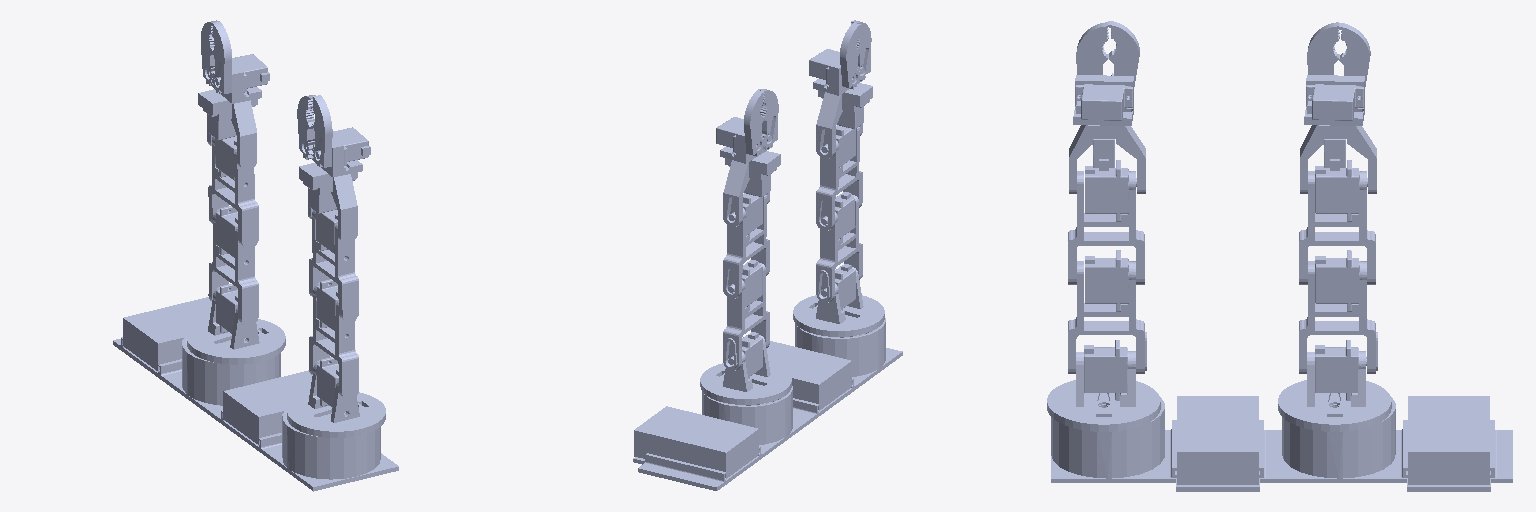
robot.urdf — double_arm:
<robot
  name="double_arm">
  <link
    name="base_link">
    <inertial>
      <origin
        xyz="0.00111660721361151 0.00544426335589322 0.0116258907717766"
        rpy="0 0 0" />
      <mass
        value="0.25833759772703" />
      <inertia
        ixx="0"
        ixy="0"
        ixz="0"
        iyy="0"
        iyz="0"
        izz="0" />
    </inertial>
    <visual>
      <origin
        xyz="0 0 0"
        rpy="0 0 0" />
      <geometry>
        <mesh
          filename="package://double_arm_description/meshes/base_link.STL" />
      </geometry>
      <material
        name="">
        <color
          rgba="0.792156862745098 0.819607843137255 0.933333333333333 1" />
      </material>
    </visual>
    <collision>
      <origin
        xyz="0 0 0"
        rpy="0 0 0" />
      <geometry>
        <mesh
          filename="package://double_arm_description/meshes/base_link.STL" />
      </geometry>
    </collision>
  </link>
  <link
    name="link1">
    <inertial>
      <origin
        xyz="-0.012003663014586 -0.000313443624338133 -0.000524217952789396"
        rpy="0 0 0" />
      <mass
        value="0.0248645274949152" />
      <inertia
        ixx="3.58655000074934E-08"
        ixy="-2.43028642751642E-07"
        ixz="-7.56141041694622E-08"
        iyy="1.80936959619812E-06"
        iyz="-1.01740400691768E-08"
        izz="1.8389041475824E-06" />
    </inertial>
    <visual>
      <origin
        xyz="0 0 0"
        rpy="0 0 0" />
      <geometry>
        <mesh
          filename="package://double_arm_description/meshes/link1.STL" />
      </geometry>
      <material
        name="">
        <color
          rgba="0.792156862745098 0.819607843137255 0.933333333333333 1" />
      </material>
    </visual>
    <collision>
      <origin
        xyz="0 0 0"
        rpy="0 0 0" />
      <geometry>
        <mesh
          filename="package://double_arm_description/meshes/link1.STL" />
      </geometry>
    </collision>
  </link>
  <joint
    name="joint1"
    type="continuous">
    <origin
      xyz="-0.000956158303297705 0.0288844292531031 0.05525"
      rpy="0 -1.5707963267949 0" />
    <parent
      link="base_link" />
    <child
      link="link1" />
    <axis
      xyz="1 0 0" />
  </joint>
  <link
    name="link2">
    <inertial>
      <origin
        xyz="6.69280502962888E-08 0.0369128472564249 -0.000321778523794974"
        rpy="0 0 0" />
      <mass
        value="0.016700623318245" />
      <inertia
        ixx="2.6833102526962E-06"
        ixy="1.3354949635344E-11"
        ixz="-1.34958738023249E-12"
        iyy="2.71253785938177E-08"
        iyz="2.68421348161181E-07"
        izz="2.65618487423668E-06" />
    </inertial>
    <visual>
      <origin
        xyz="0 0 0"
        rpy="0 0 0" />
      <geometry>
        <mesh
          filename="package://double_arm_description/meshes/link2.STL" />
      </geometry>
      <material
        name="">
        <color
          rgba="0.792156862745098 0.819607843137255 0.933333333333333 1" />
      </material>
    </visual>
    <collision>
      <origin
        xyz="0 0 0"
        rpy="0 0 0" />
      <geometry>
        <mesh
          filename="package://double_arm_description/meshes/link2.STL" />
      </geometry>
    </collision>
  </link>
  <joint
    name="joint2"
    type="continuous">
    <origin
      xyz="0.00525 0 0"
      rpy="-1.5708 1.5677 -3.1416" />
    <parent
      link="link1" />
    <child
      link="link2" />
    <axis
      xyz="0 0 1" />
    <limit
      lower="-1.56"
      upper="1.56"
      effort="1"
      velocity="1" />
  </joint>
  <link
    name="link3">
    <inertial>
      <origin
        xyz="1.95214170273239E-07 0.0370134499027811 -0.000149459182593875"
        rpy="0 0 0" />
      <mass
        value="0.0166651621532697" />
      <inertia
        ixx="2.65585275207442E-06"
        ixy="3.8678175896547E-11"
        ixz="-4.44112838797213E-12"
        iyy="3.45597242049358E-08"
        iyz="3.0098365840559E-07"
        izz="2.6212930290109E-06" />
    </inertial>
    <visual>
      <origin
        xyz="0 0 0"
        rpy="0 0 0" />
      <geometry>
        <mesh
          filename="package://double_arm_description/meshes/link3.STL" />
      </geometry>
      <material
        name="">
        <color
          rgba="0.792156862745098 0.819607843137255 0.933333333333333 1" />
      </material>
    </visual>
    <collision>
      <origin
        xyz="0 0 0"
        rpy="0 0 0" />
      <geometry>
        <mesh
          filename="package://double_arm_description/meshes/link3.STL" />
      </geometry>
    </collision>
  </link>
  <joint
    name="joint3"
    type="continuous">
    <origin
      xyz="0 0.055 0"
      rpy="0 0 0.015332" />
    <parent
      link="link2" />
    <child
      link="link3" />
    <axis
      xyz="0 0 1" />
    <limit
      lower="-1.56"
      upper="1.56"
      effort="1"
      velocity="1" />
  </joint>
  <link
    name="link4">
    <inertial>
      <origin
        xyz="-0.00247942992895436 0.0256210540216426 0.00061305269796022"
        rpy="0 0 0" />
      <mass
        value="0.0165800756588296" />
      <inertia
        ixx="4.88415771365494E-09"
        ixy="8.68313158308363E-10"
        ixz="4.86130490540308E-09"
        iyy="9.72607970301189E-09"
        iyz="-8.45422584738511E-10"
        izz="5.1439361888134E-09" />
    </inertial>
    <visual>
      <origin
        xyz="0 0 0"
        rpy="0 0 0" />
      <geometry>
        <mesh
          filename="package://double_arm_description/meshes/link4.STL" />
      </geometry>
      <material
        name="">
        <color
          rgba="0.792156862745098 0.819607843137255 0.933333333333333 1" />
      </material>
    </visual>
    <collision>
      <origin
        xyz="0 0 0"
        rpy="0 0 0" />
      <geometry>
        <mesh
          filename="package://double_arm_description/meshes/link4.STL" />
      </geometry>
    </collision>
  </link>
  <joint
    name="joint4"
    type="continuous">
    <origin
      xyz="0 0.055 0"
      rpy="0 0 -0.012212" />
    <parent
      link="link3" />
    <child
      link="link4" />
    <axis
      xyz="0 0 1" />
    <limit
      lower="-1.56"
      upper="1.56"
      effort="1"
      velocity="1" />
  </joint>
  <link
    name="link5">
    <inertial>
      <origin
        xyz="-0.00131861479839449 0.0101634361199183 -0.000164069114650445"
        rpy="0 0 0" />
      <mass
        value="0.012625228011279" />
      <inertia
        ixx="9.3661113963943E-08"
        ixy="1.09508224271156E-07"
        ixz="-1.85966030941123E-08"
        iyy="1.34354341233773E-07"
        iyz="1.54596253736411E-08"
        izz="2.22764771626308E-07" />
    </inertial>
    <visual>
      <origin
        xyz="0 0 0"
        rpy="0 0 0" />
      <geometry>
        <mesh
          filename="package://double_arm_description/meshes/link5.STL" />
      </geometry>
      <material
        name="">
        <color
          rgba="0.792156862745098 0.819607843137255 0.933333333333333 1" />
      </material>
    </visual>
    <collision>
      <origin
        xyz="0 0 0"
        rpy="0 0 0" />
      <geometry>
        <mesh
          filename="package://double_arm_description/meshes/link5.STL" />
      </geometry>
    </collision>
  </link>
  <joint
    name="joint5"
    type="continuous">
    <origin
      xyz="0.001675 0.04065 0.001175"
      rpy="3.1416 0.070184 3.1416" />
    <parent
      link="link4" />
    <child
      link="link5" />
    <axis
      xyz="0 1 0" />
    <limit
      lower="-1.56"
      upper="1.56"
      effort="1"
      velocity="1" />
  </joint>
  <link
    name="link6">
    <inertial>
      <origin
        xyz="0.00440494008580009 0.0149875913540711 0.0031023956042561"
        rpy="0 0 0" />
      <mass
        value="0.00293008812492284" />
      <inertia
        ixx="0"
        ixy="0"
        ixz="0"
        iyy="0"
        iyz="0"
        izz="0" />
    </inertial>
    <visual>
      <origin
        xyz="0 0 0"
        rpy="0 0 0" />
      <geometry>
        <mesh
          filename="package://double_arm_description/meshes/link6.STL" />
      </geometry>
      <material
        name="">
        <color
          rgba="0.792156862745098 0.819607843137255 0.933333333333333 1" />
      </material>
    </visual>
    <collision>
      <origin
        xyz="0 0 0"
        rpy="0 0 0" />
      <geometry>
        <mesh
          filename="package://double_arm_description/meshes/link6.STL" />
      </geometry>
    </collision>
  </link>
  <joint
    name="joint6"
    type="continuous">
    <origin
      xyz="0.0090527 0.01225 0.00845"
      rpy="-0.089371 -1.8041E-16 1.0669E-16" />
    <parent
      link="link5" />
    <child
      link="link6" />
    <axis
      xyz="-1 0 0" />
    <limit
      lower="-1.56"
      upper="1.56"
      effort="1"
      velocity="1" />
  </joint>
  <link
    name="link7">
    <inertial>
      <origin
        xyz="0.00426211339896462 0.0162213268253363 -0.00325145178967723"
        rpy="0 0 0" />
      <mass
        value="0.00299935323956124" />
      <inertia
        ixx="0"
        ixy="0"
        ixz="0"
        iyy="0"
        iyz="0"
        izz="0" />
    </inertial>
    <visual>
      <origin
        xyz="0 0 0"
        rpy="0 0 0" />
      <geometry>
        <mesh
          filename="package://double_arm_description/meshes/link7.STL" />
      </geometry>
      <material
        name="">
        <color
          rgba="0.792156862745098 0.819607843137255 0.933333333333333 1" />
      </material>
    </visual>
    <collision>
      <origin
        xyz="0 0 0"
        rpy="0 0 0" />
      <geometry>
        <mesh
          filename="package://double_arm_description/meshes/link7.STL" />
      </geometry>
    </collision>
  </link>
  <joint
    name="joint7"
    type="continuous">
    <origin
      xyz="0.0091411 0.01225 -0.00525"
      rpy="0.062213 0 -1.4832E-16" />
    <parent
      link="link5" />
    <child
      link="link7" />
    <axis
      xyz="-1 0 0" />
    <limit
      lower="-1.56"
      upper="1.56"
      effort="1"
      velocity="1" />
  </joint>
  <link
    name="link8">
    <inertial>
      <origin
        xyz="-0.0119968291986694 -0.000313443723756336 -0.000524217971259927"
        rpy="0 0 0" />
      <mass
        value="0.0248645272600821" />
      <inertia
        ixx="3.58654918378193E-08"
        ixy="-2.42895973795859E-07"
        ixz="-7.55728305298291E-08"
        iyy="1.80739855379054E-06"
        iyz="-1.01740381930652E-08"
        izz="1.83693309783904E-06" />
    </inertial>
    <visual>
      <origin
        xyz="0 0 0"
        rpy="0 0 0" />
      <geometry>
        <mesh
          filename="package://double_arm_description/meshes/link8.STL" />
      </geometry>
      <material
        name="">
        <color
          rgba="0.792156862745098 0.819607843137255 0.933333333333333 1" />
      </material>
    </visual>
    <collision>
      <origin
        xyz="0 0 0"
        rpy="0 0 0" />
      <geometry>
        <mesh
          filename="package://double_arm_description/meshes/link8.STL" />
      </geometry>
    </collision>
  </link>
  <joint
    name="joint8"
    type="continuous">
    <origin
      xyz="-0.00095616 -0.099686 0.05525"
      rpy="0 -1.5708 0" />
    <parent
      link="base_link" />
    <child
      link="link8" />
    <axis
      xyz="1 0 0" />
    <limit
      lower="-1.56"
      upper="1.56"
      effort="1"
      velocity="1" />
  </joint>
  <link
    name="link9">
    <inertial>
      <origin
        xyz="6.69302602229749E-08 0.0369128471548764 -0.000321778439425081"
        rpy="0 0 0" />
      <mass
        value="0.0167006232385536" />
      <inertia
        ixx="2.68331022096749E-06"
        ixy="1.33544559718802E-11"
        ixz="-1.34953748512466E-12"
        iyy="2.71253779611855E-08"
        iyz="2.68421343459863E-07"
        izz="2.65618484314059E-06" />
    </inertial>
    <visual>
      <origin
        xyz="0 0 0"
        rpy="0 0 0" />
      <geometry>
        <mesh
          filename="package://double_arm_description/meshes/link9.STL" />
      </geometry>
      <material
        name="">
        <color
          rgba="0.792156862745098 0.819607843137255 0.933333333333333 1" />
      </material>
    </visual>
    <collision>
      <origin
        xyz="0 0 0"
        rpy="0 0 0" />
      <geometry>
        <mesh
          filename="package://double_arm_description/meshes/link9.STL" />
      </geometry>
    </collision>
  </link>
  <joint
    name="joint9"
    type="continuous">
    <origin
      xyz="0.00525 0 0"
      rpy="-1.5708 1.5677 -3.1416" />
    <parent
      link="link8" />
    <child
      link="link9" />
    <axis
      xyz="0 0 1" />
    <limit
      lower="-1.56"
      upper="1.56"
      effort="1"
      velocity="1" />
  </joint>
  <link
    name="link10">
    <inertial>
      <origin
        xyz="1.95207439990241E-07 0.0370134500092733 -0.000149459236911745"
        rpy="0 0 0" />
      <mass
        value="0.0166651622370966" />
      <inertia
        ixx="2.65585278684074E-06"
        ixy="3.86796626325012E-11"
        ixz="-4.44129922878853E-12"
        iyy="3.45597266533368E-08"
        iyz="3.00983670922484E-07"
        izz="2.62129306132892E-06" />
    </inertial>
    <visual>
      <origin
        xyz="0 0 0"
        rpy="0 0 0" />
      <geometry>
        <mesh
          filename="package://double_arm_description/meshes/link10.STL" />
      </geometry>
      <material
        name="">
        <color
          rgba="0.792156862745098 0.819607843137255 0.933333333333333 1" />
      </material>
    </visual>
    <collision>
      <origin
        xyz="0 0 0"
        rpy="0 0 0" />
      <geometry>
        <mesh
          filename="package://double_arm_description/meshes/link10.STL" />
      </geometry>
    </collision>
  </link>
  <joint
    name="joint10"
    type="continuous">
    <origin
      xyz="0 0.055 0"
      rpy="0 0 0.015332" />
    <parent
      link="link9" />
    <child
      link="link10" />
    <axis
      xyz="0 0 1" />
    <limit
      lower="-1.56"
      upper="1.56"
      effort="1"
      velocity="1" />
  </joint>
  <link
    name="link11">
    <inertial>
      <origin
        xyz="-0.00247942993318712 0.0256210540194745 0.000613052702232197"
        rpy="0 0 0" />
      <mass
        value="0.0165800756520562" />
      <inertia
        ixx="4.88415780499662E-09"
        ixy="8.68313144996844E-10"
        ixz="4.86130499651106E-09"
        iyy="9.72607988475593E-09"
        iyz="-8.45422573525401E-10"
        izz="5.14393626491989E-09" />
    </inertial>
    <visual>
      <origin
        xyz="0 0 0"
        rpy="0 0 0" />
      <geometry>
        <mesh
          filename="package://double_arm_description/meshes/link11.STL" />
      </geometry>
      <material
        name="">
        <color
          rgba="0.792156862745098 0.819607843137255 0.933333333333333 1" />
      </material>
    </visual>
    <collision>
      <origin
        xyz="0 0 0"
        rpy="0 0 0" />
      <geometry>
        <mesh
          filename="package://double_arm_description/meshes/link11.STL" />
      </geometry>
    </collision>
  </link>
  <joint
    name="joint11"
    type="continuous">
    <origin
      xyz="0 0.055 0"
      rpy="0 0 -0.012212" />
    <parent
      link="link10" />
    <child
      link="link11" />
    <axis
      xyz="0 0 1" />
    <limit
      lower="-1.56"
      upper="1.56"
      effort="1"
      velocity="1" />
  </joint>
  <link
    name="link12">
    <inertial>
      <origin
        xyz="0.000164068958701177 0.00388138507939179 0.0020865638782957"
        rpy="0 0 0" />
      <mass
        value="0.0126252277695988" />
      <inertia
        ixx="2.22764782040719E-07"
        ixy="1.85965989140084E-08"
        ixz="1.54596214521355E-08"
        iyy="9.36611137452427E-08"
        iyz="-1.09508228812954E-07"
        izz="1.34354349136983E-07" />
    </inertial>
    <visual>
      <origin
        xyz="0 0 0"
        rpy="0 0 0" />
      <geometry>
        <mesh
          filename="package://double_arm_description/meshes/link12.STL" />
      </geometry>
      <material
        name="">
        <color
          rgba="0.792156862745098 0.819607843137255 0.933333333333333 1" />
      </material>
    </visual>
    <collision>
      <origin
        xyz="0 0 0"
        rpy="0 0 0" />
      <geometry>
        <mesh
          filename="package://double_arm_description/meshes/link12.STL" />
      </geometry>
    </collision>
  </link>
  <joint
    name="joint12"
    type="continuous">
    <origin
      xyz="0.0068622 0.0529 0.0015397"
      rpy="-1.5708 -1.5006 -3.1416" />
    <parent
      link="link11" />
    <child
      link="link12" />
    <axis
      xyz="0 0 -1" />
    <limit
      lower="-1.56"
      upper="1.56"
      effort="1"
      velocity="1" />
  </joint>
  <link
    name="link13">
    <inertial>
      <origin
        xyz="0.00440494008580006 0.0149875913540712 0.00310239560425608"
        rpy="0 0 0" />
      <mass
        value="0.00293008812492284" />
      <inertia
        ixx="0"
        ixy="0"
        ixz="0"
        iyy="0"
        iyz="0"
        izz="0" />
    </inertial>
    <visual>
      <origin
        xyz="0 0 0"
        rpy="0 0 0" />
      <geometry>
        <mesh
          filename="package://double_arm_description/meshes/link13.STL" />
      </geometry>
      <material
        name="">
        <color
          rgba="0.792156862745098 0.819607843137255 0.933333333333333 1" />
      </material>
    </visual>
    <collision>
      <origin
        xyz="0 0 0"
        rpy="0 0 0" />
      <geometry>
        <mesh
          filename="package://double_arm_description/meshes/link13.STL" />
      </geometry>
    </collision>
  </link>
  <joint
    name="joint13"
    type="continuous">
    <origin
      xyz="-0.00845 0.016879 0"
      rpy="-1.6602 1.9082E-16 1.5708" />
    <parent
      link="link12" />
    <child
      link="link13" />
    <axis
      xyz="-1 0 0" />
    <limit
      lower="-1.56"
      upper="1.56"
      effort="1"
      velocity="1" />
  </joint>
  <link
    name="link14">
    <inertial>
      <origin
        xyz="0.0042621133989646 0.0162213268253364 -0.00325145178967722"
        rpy="0 0 0" />
      <mass
        value="0.00299935323956123" />
      <inertia
        ixx="0"
        ixy="0"
        ixz="0"
        iyy="0"
        iyz="0"
        izz="0" />
    </inertial>
    <visual>
      <origin
        xyz="0 0 0"
        rpy="0 0 0" />
      <geometry>
        <mesh
          filename="package://double_arm_description/meshes/link14.STL" />
      </geometry>
      <material
        name="">
        <color
          rgba="0.792156862745098 0.819607843137255 0.933333333333333 1" />
      </material>
    </visual>
    <collision>
      <origin
        xyz="0 0 0"
        rpy="0 0 0" />
      <geometry>
        <mesh
          filename="package://double_arm_description/meshes/link14.STL" />
      </geometry>
    </collision>
  </link>
  <joint
    name="joint14"
    type="continuous">
    <origin
      xyz="0.00525 0.014341 0"
      rpy="-1.5086 -1.3704E-16 1.5708" />
    <parent
      link="link12" />
    <child
      link="link14" />
    <axis
      xyz="-1 0 0" />
    <limit
      lower="-1.56"
      upper="1.56"
      effort="1"
      velocity="1" />
  </joint>
</robot>

--- What the picture shows (computed from the rendered views, not written in the file) ---
The picture shows the robot from 3 angles, left to right: view 1: azimuth 30°, elevation 25°; view 2: azimuth 150°, elevation 25°; view 3: azimuth 270°, elevation 25°; orthographic projection.
Robot: double_arm — 15 links, 14 joints (14 continuous); root link base_link; default pose: all joints at 0.
Visible links, largest first — view 1: base_link, link8, link1, link2, link9, link10, link3, link4, link11, link12, link5, link14 (+3 smaller); view 2: base_link, link8, link1, link9, link2, link3, link10, link4, link11, link12, link5, link13 (+3 smaller); view 3: base_link, link8, link1, link2, link3, link9, link10, link5, link12, link11, link4, link14 (+3 smaller).
Boxes of the visible links, <box> form: base_link: <box>113,297,398,491</box>; link8: <box>287,357,385,437</box>; link1: <box>187,284,285,364</box>; link2: <box>208,206,258,325</box>; link9: <box>309,279,358,399</box>; link10: <box>309,210,358,321</box>; link3: <box>208,136,258,247</box>; link4: <box>198,89,257,168</box>; link11: <box>299,163,357,242</box>; link12: <box>312,127,370,176</box>; link5: <box>212,54,269,103</box>; link14: <box>312,95,332,167</box>; base_link: <box>633,318,902,490</box>; link8: <box>793,264,884,336</box>; link1: <box>700,332,791,404</box>; link9: <box>816,192,862,302</box>; link2: <box>723,260,769,370</box>; link3: <box>723,193,769,298</box>; link10: <box>816,125,862,230</box>; link4: <box>723,151,780,226</box>; link11: <box>816,83,872,158</box>; link12: <box>809,49,864,95</box>; link5: <box>716,117,771,163</box>; link13: <box>840,23,860,89</box>; base_link: <box>1051,396,1512,491</box>; link8: <box>1047,340,1160,431</box>; link1: <box>1278,340,1391,431</box>; link2: <box>1299,250,1377,373</box>; link3: <box>1299,160,1375,284</box>; link9: <box>1068,250,1146,373</box>; link10: <box>1068,160,1144,284</box>; link5: <box>1304,75,1364,125</box>; link12: <box>1073,75,1133,125</box>; link11: <box>1069,125,1145,193</box>; link4: <box>1300,125,1376,193</box>; link14: <box>1076,22,1108,74</box>.
Size in the robot's own frame: 0.074 by 0.2595 by 0.2621 metres.
Meshes: 15 distinct files referenced, 15 mesh visuals loaded (15 binary STL).
